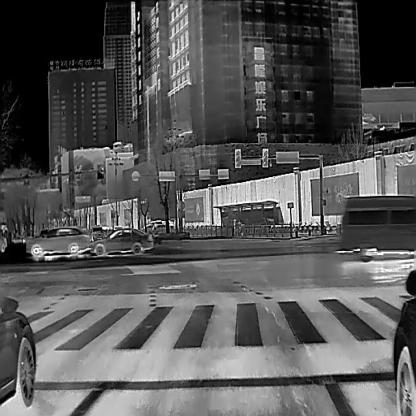car: (337, 194, 415, 262), (0, 294, 36, 410), (24, 226, 92, 256), (91, 226, 153, 255)
